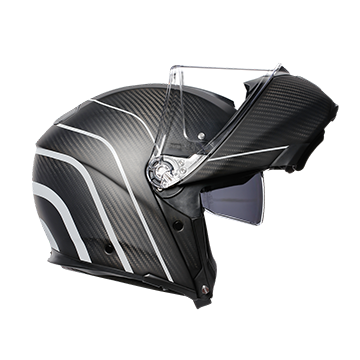with_helmet: (30, 59, 342, 311)
